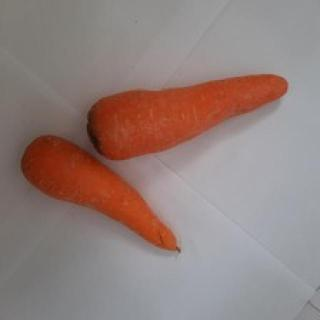carrot: (21, 133, 181, 253), (89, 71, 288, 159)
